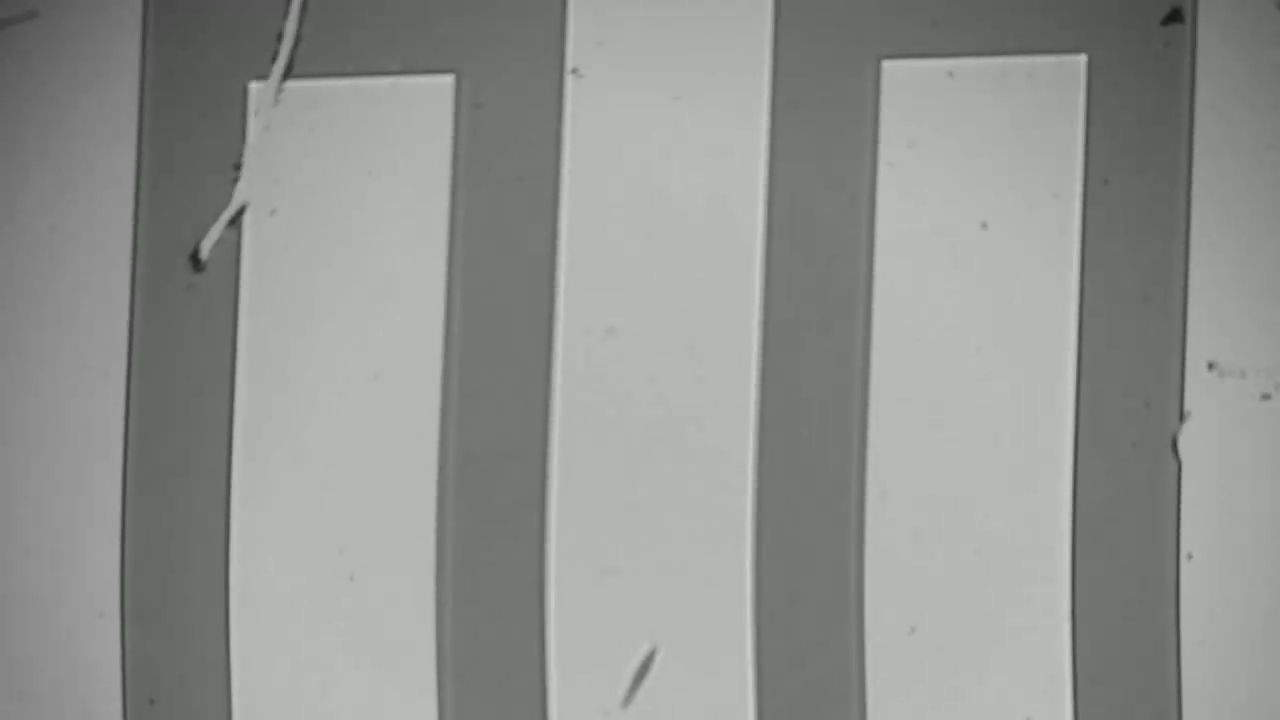Short_circuit: (251, 1, 332, 101)
